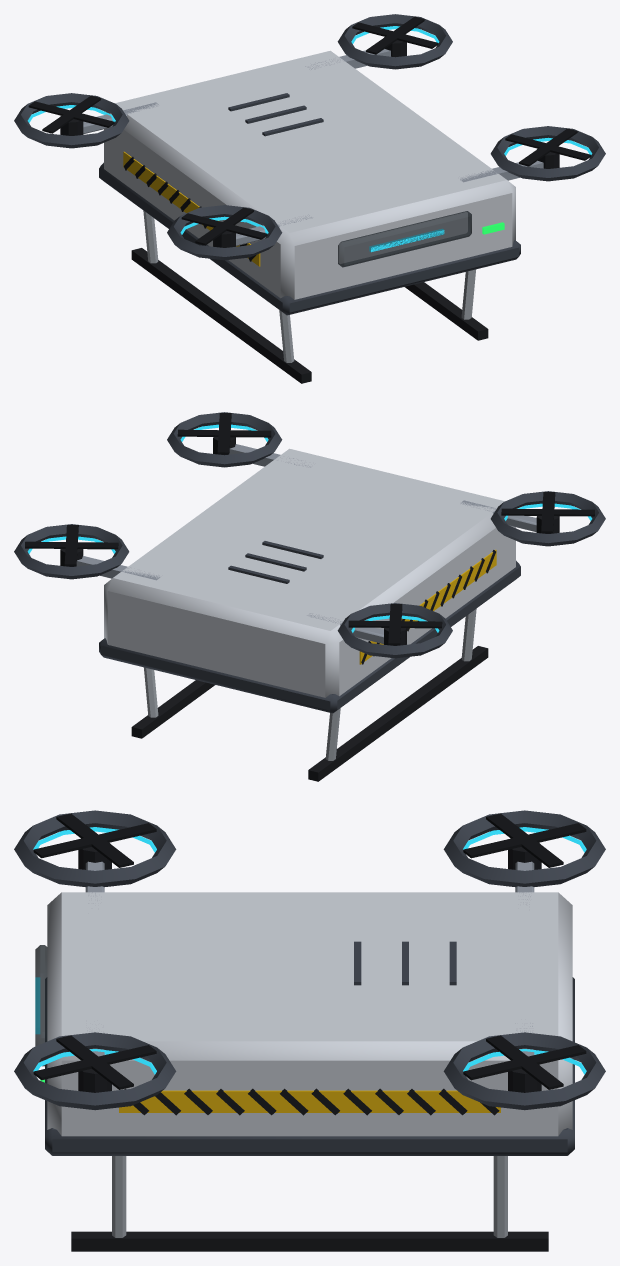
Rendered from loader_cargo_drone.glb.
The picture shows the model from 3 angles, top to bottom: view 1: azimuth 30°, elevation 25°; view 2: azimuth 150°, elevation 25°; view 3: azimuth 270°, elevation 25°; orthographic projection. The views are drawn at different scales.
Visible parts, largest first — view 1: loader_cargo_drone; view 2: loader_cargo_drone; view 3: loader_cargo_drone.
Part boxes in pixels (x1,y1,x2,y2): loader_cargo_drone: [14, 14, 605, 383]; loader_cargo_drone: [14, 412, 605, 781]; loader_cargo_drone: [14, 810, 605, 1251].
Size of the model in its own units: 2.88 by 1.1 by 2.48.
